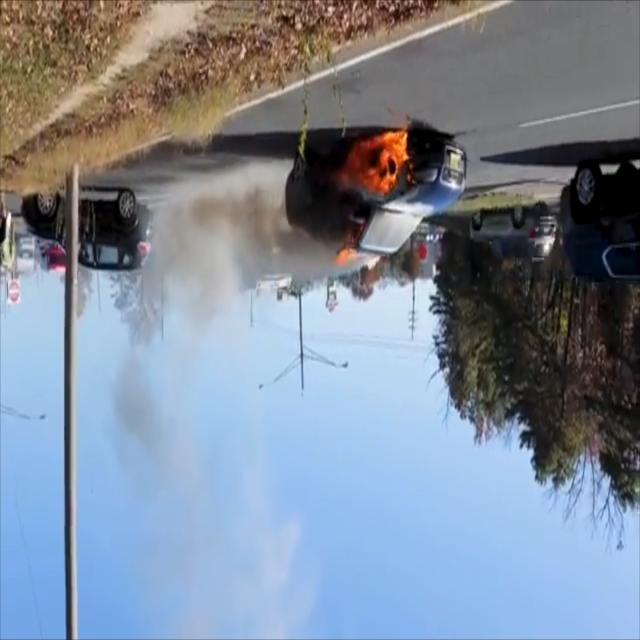fire: (327, 126, 407, 272)
